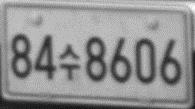0: (134, 38, 156, 84)
4: (33, 34, 58, 81)
6: (108, 36, 132, 83), (160, 39, 181, 85)
8: (84, 35, 107, 82), (10, 33, 33, 79)
수: (57, 42, 81, 80)
